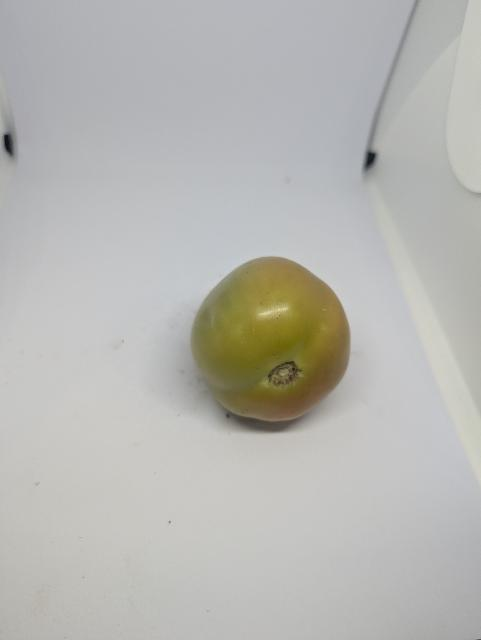breaker: (191, 257, 351, 421)
